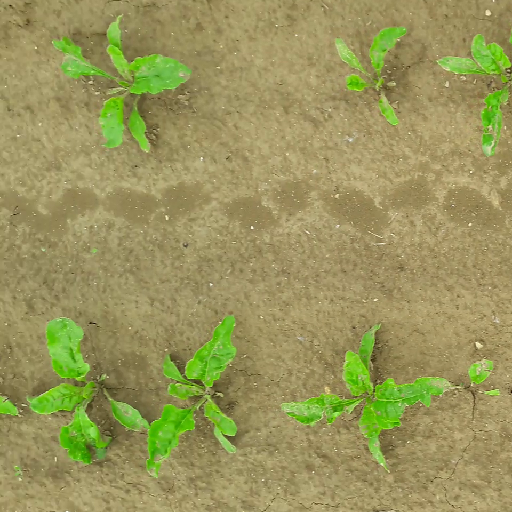sugarbeet: (274, 322, 454, 478), (40, 16, 192, 157), (21, 319, 148, 470), (145, 313, 246, 481), (431, 31, 512, 160), (327, 23, 409, 128), (413, 357, 502, 397)
weed: (12, 466, 25, 479)
